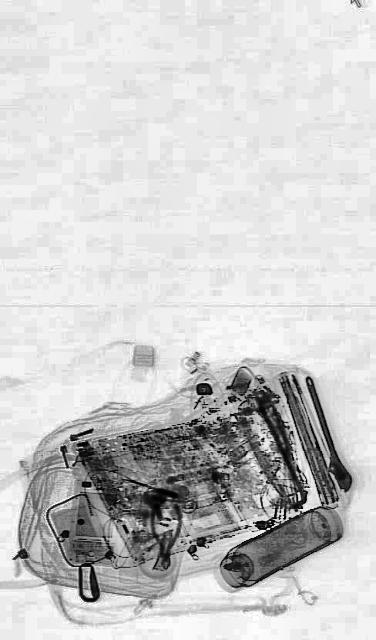Pliers: (253, 382, 305, 491), (149, 502, 181, 568)
Wrench: (298, 370, 354, 500)
